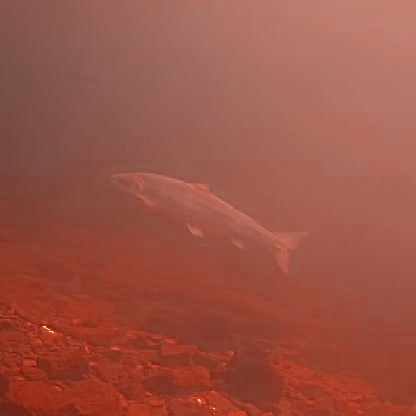salmon: (104, 163, 309, 276)
